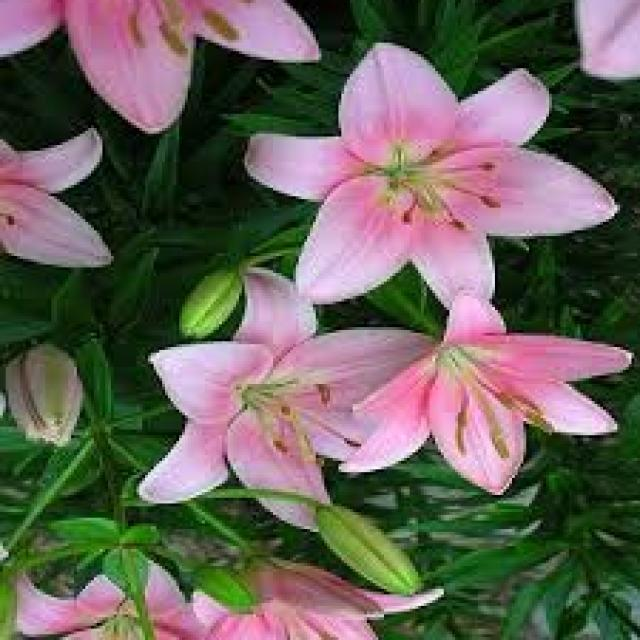lily: (236, 49, 622, 331)
